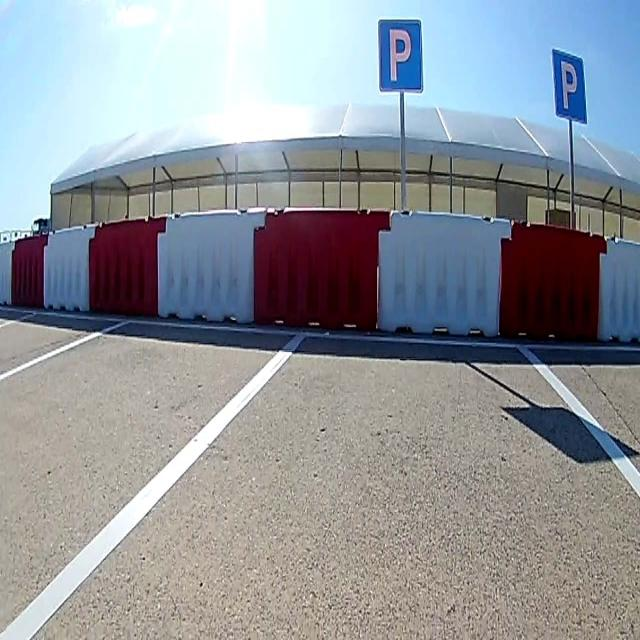park: (379, 21, 423, 90), (553, 49, 586, 123)
